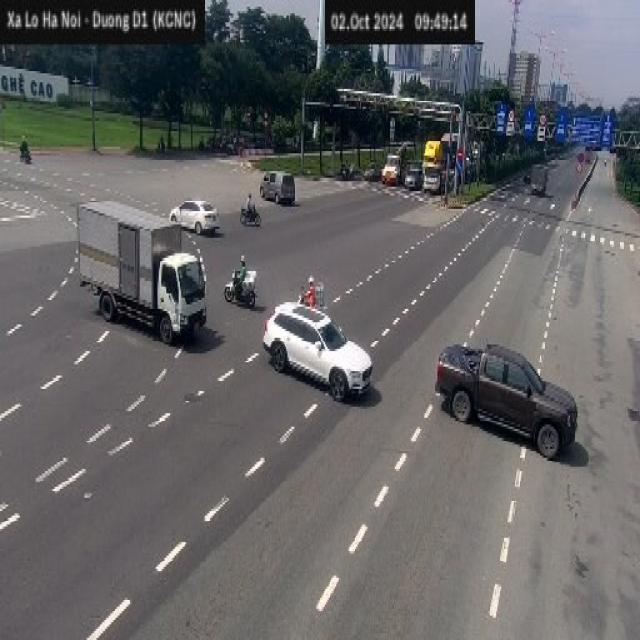car: (432, 340, 580, 463), (266, 290, 372, 405), (167, 197, 226, 236), (260, 162, 298, 210), (379, 151, 408, 202), (410, 164, 430, 197)
container-truck: (426, 136, 474, 195)
motorcycle: (228, 272, 258, 310), (238, 209, 270, 234), (16, 152, 38, 172)
person: (304, 272, 316, 310), (237, 251, 247, 293), (16, 134, 31, 156), (246, 188, 255, 224)
truck: (70, 199, 206, 350), (528, 160, 553, 203)
